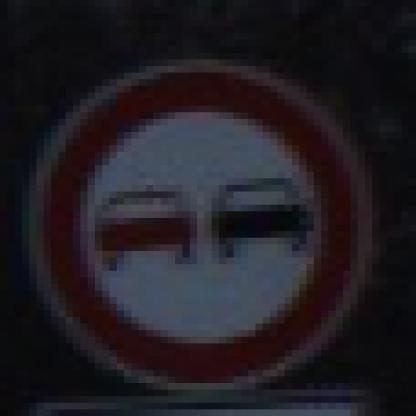No Overtaking: (38, 41, 373, 384)
